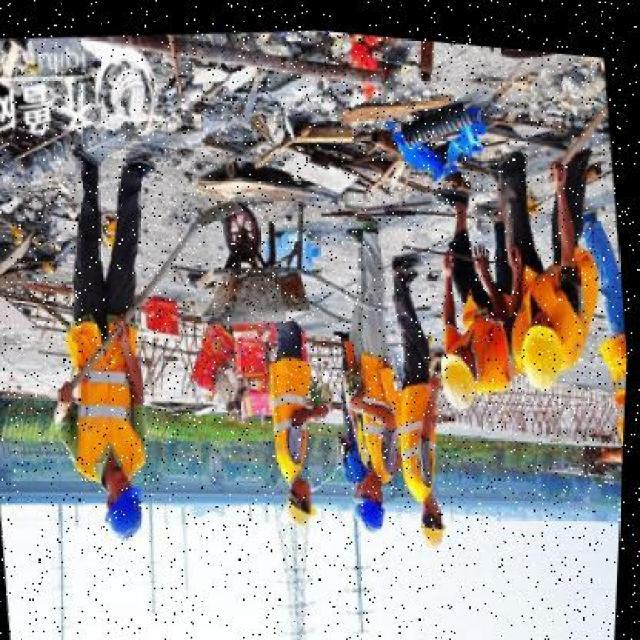helmet: (97, 460, 155, 544), (518, 310, 572, 386), (435, 335, 481, 405), (283, 471, 325, 521), (354, 477, 394, 529), (419, 494, 453, 540)
vest: (62, 309, 150, 471), (342, 333, 402, 474), (393, 371, 451, 497), (263, 343, 318, 470), (597, 316, 629, 452)
